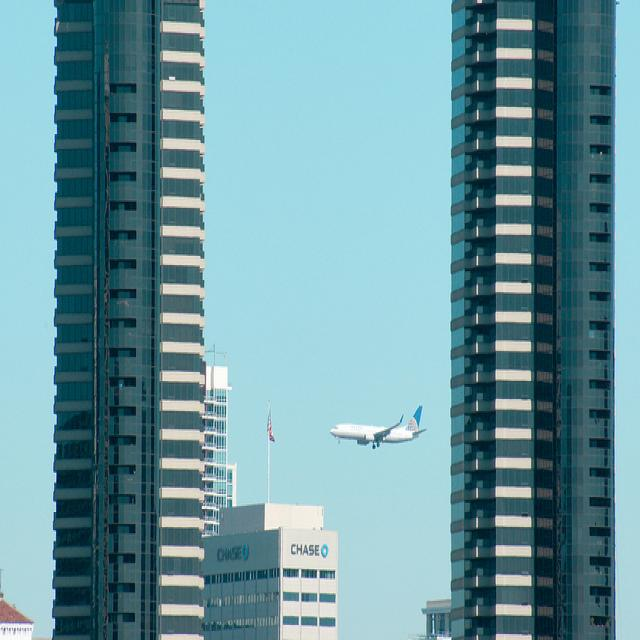airplane: (328, 402, 430, 452)
